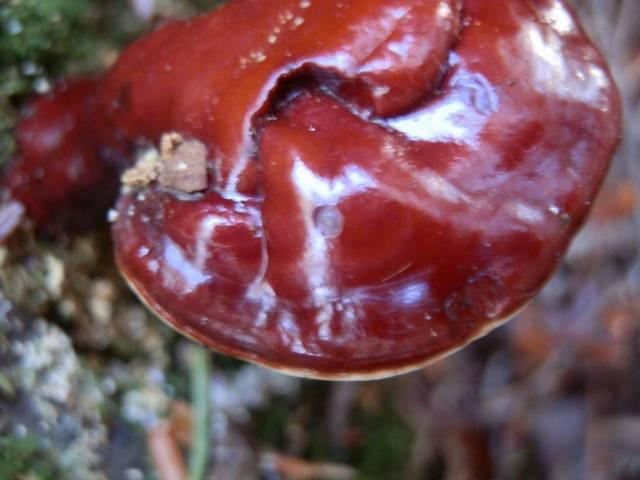Non-edible Mushroom: (7, 0, 624, 383)
